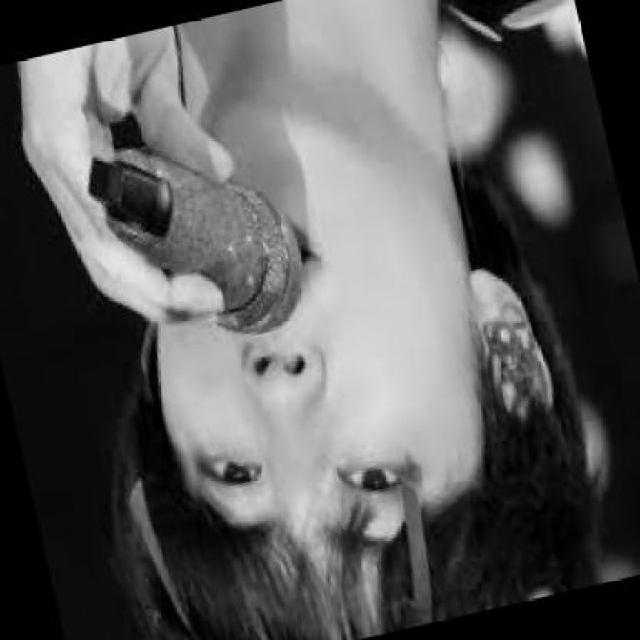earphone: (478, 316, 549, 407)
